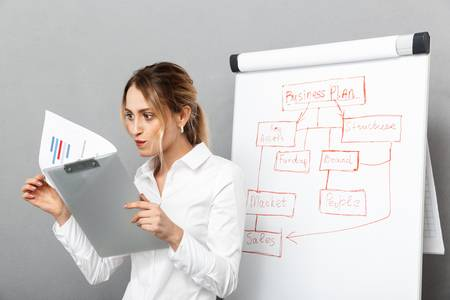S_shirt: (57, 145, 243, 300)
